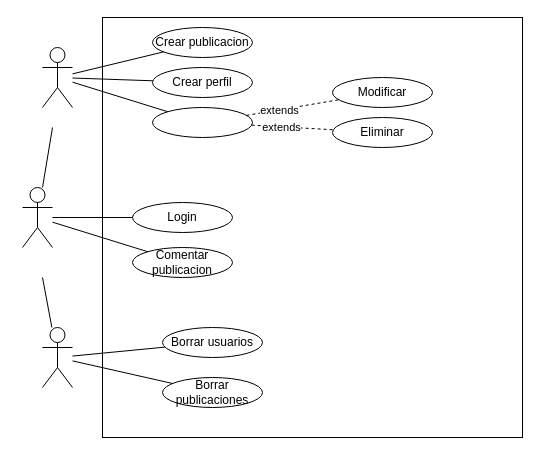
Image size: 540x455. Some labels were removed from this diagram. Each missing label, with the box of its shape:
Administrador: (42, 326, 72, 388)
Creador: (42, 46, 72, 108)
Editar publicacion: (152, 106, 252, 138)
Usuario: (22, 186, 52, 248)
